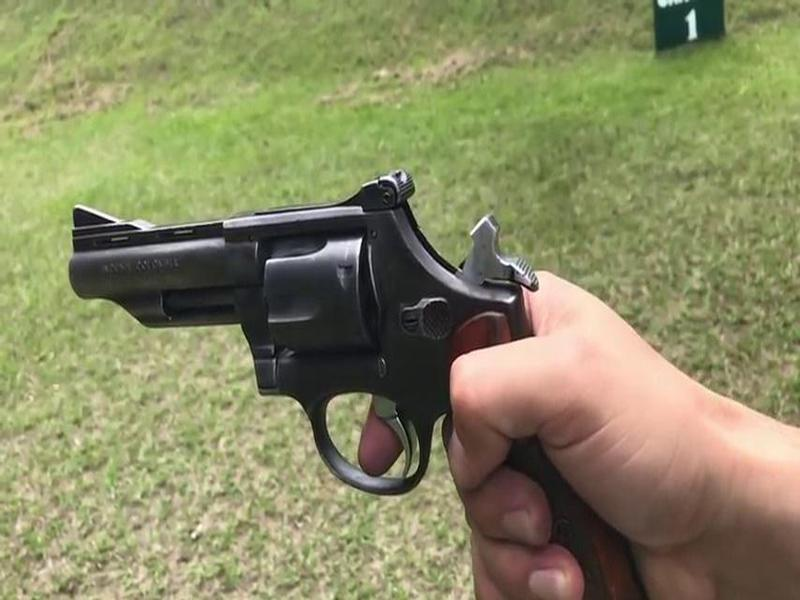Revolver: (78, 154, 628, 598)
